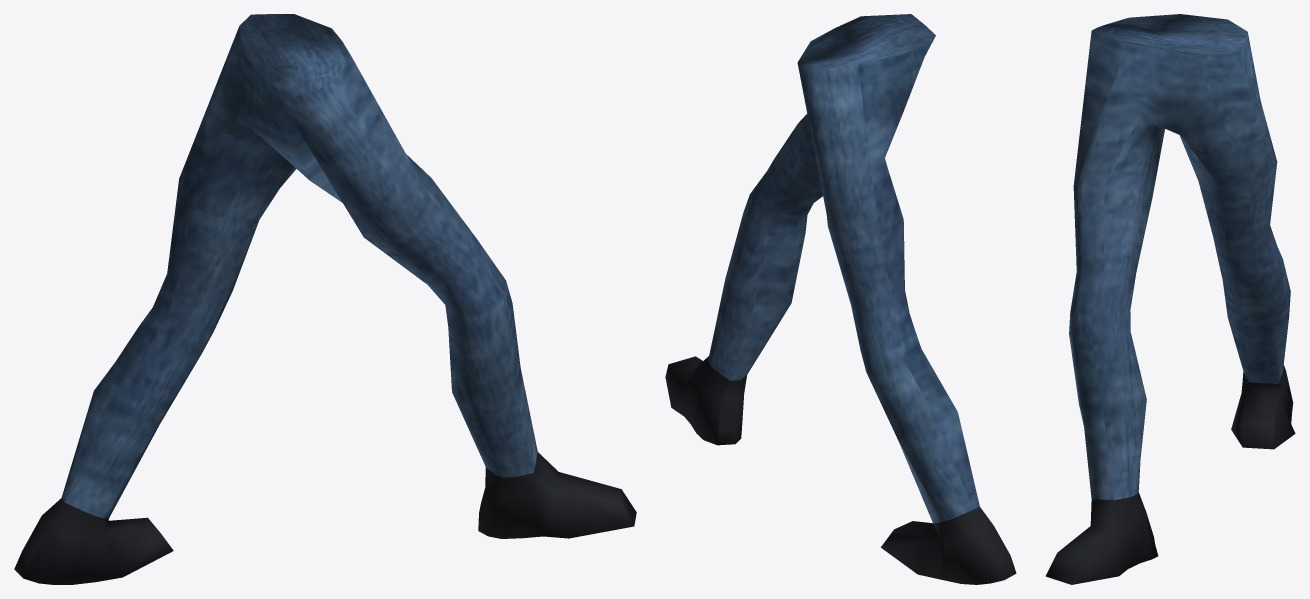
File: PlayerLegs6.obj
3 renders of one model, left to right at view 1: azimuth 30°, elevation 25°; view 2: azimuth 150°, elevation 25°; view 3: azimuth 270°, elevation 25°, orthographic. The views are drawn at different scales.
Visible parts, largest first — view 1: Legs; view 2: Legs; view 3: Legs.
Boxes of the visible parts, x1=… form: Legs: x1=14, y1=14, x2=636, y2=584; Legs: x1=665, y1=14, x2=1016, y2=584; Legs: x1=1045, y1=14, x2=1295, y2=584.
Size of the model in its own units: 4.51 by 4.49 by 2.21.
1 material, 1 textured.
